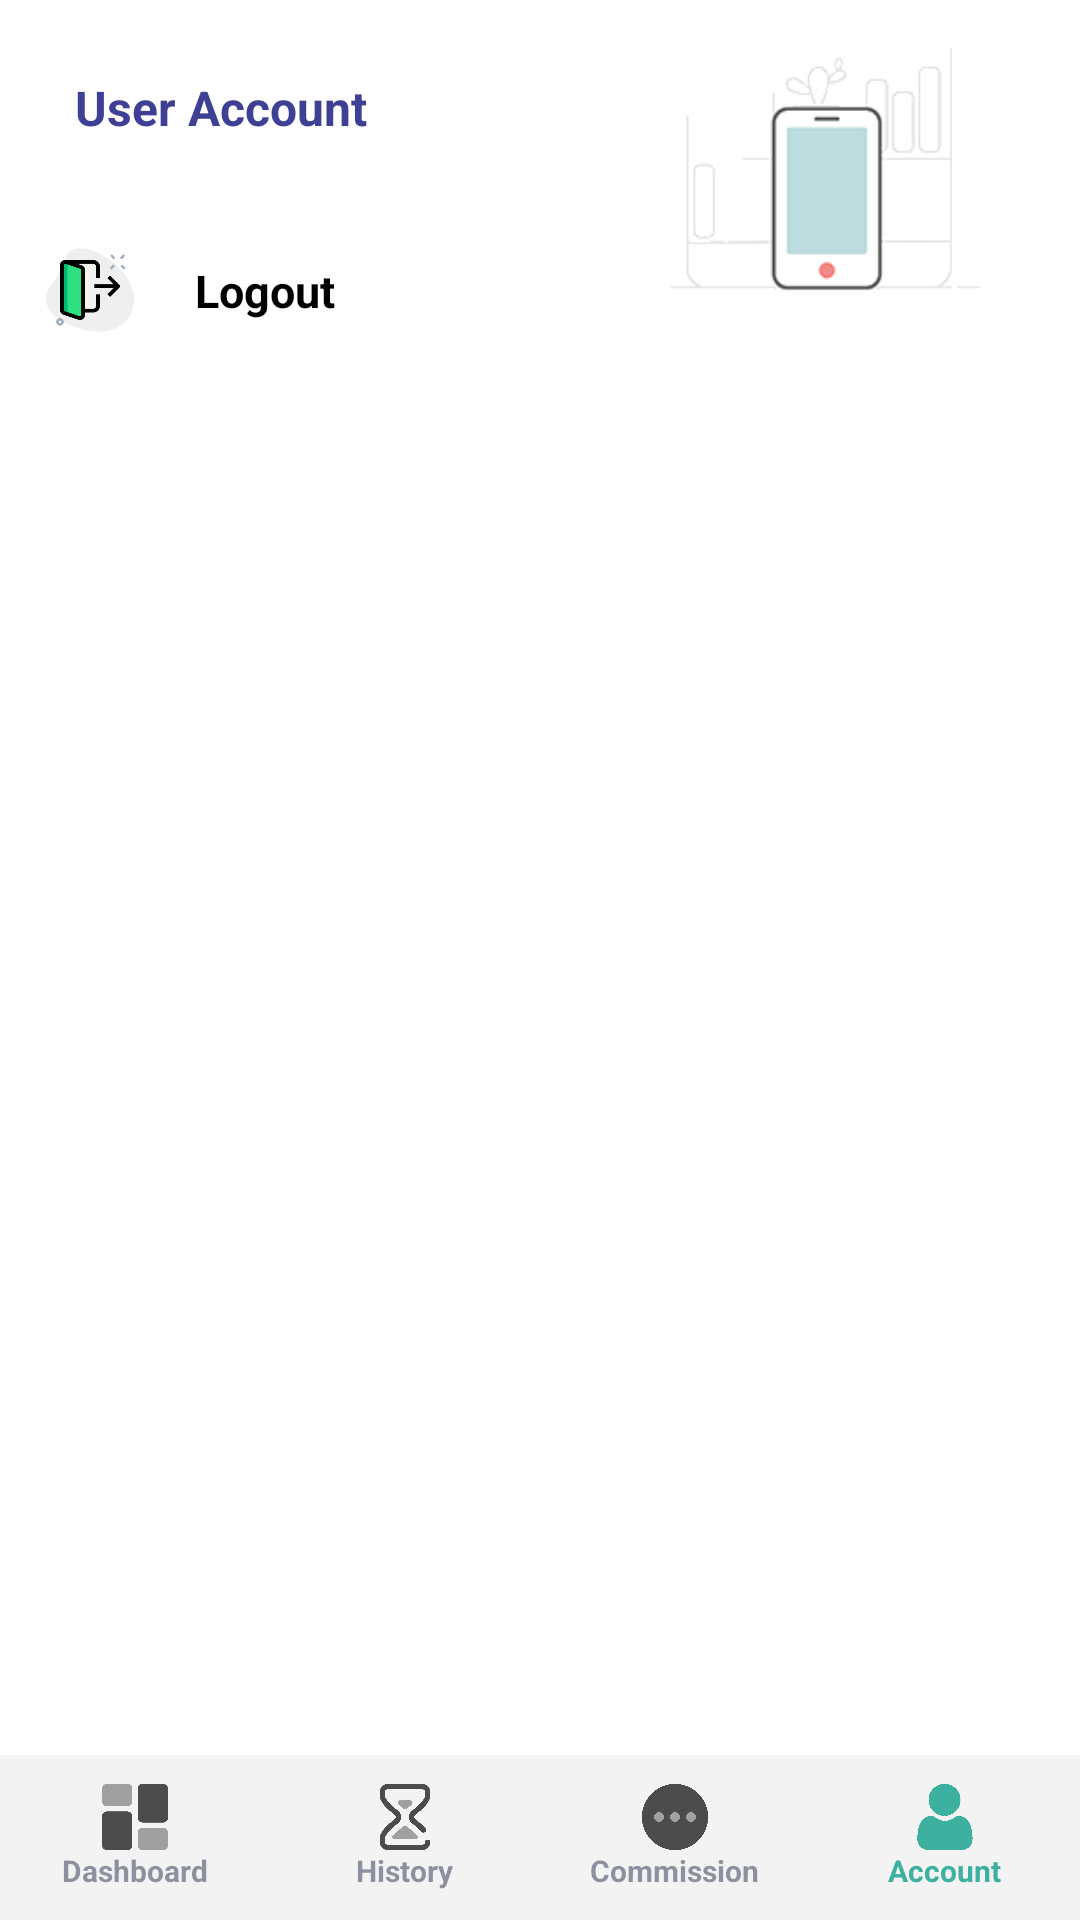

Where to tap for icons on this 1080×1920 app screen, as [x,y]:
more: [675,1817]
